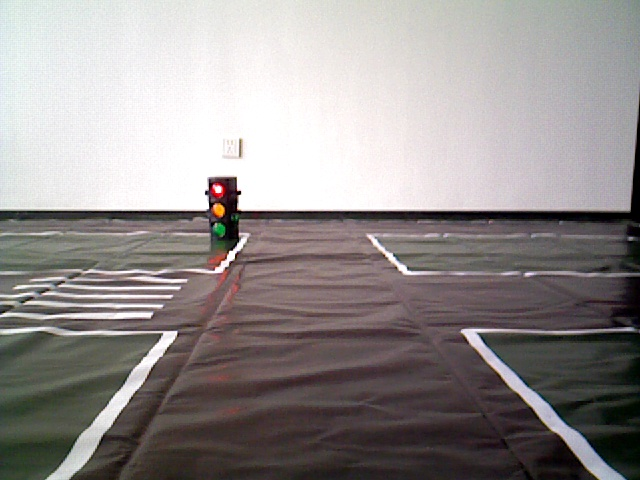red: (208, 175, 234, 242)
